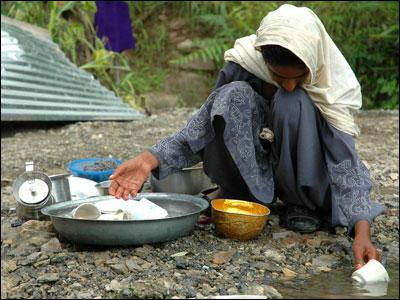person: (107, 2, 388, 268)
